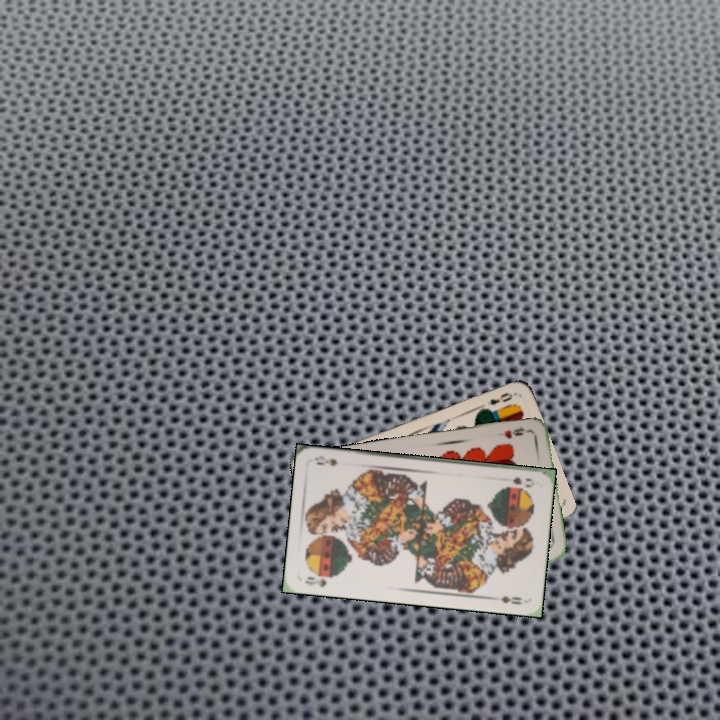EO: (483, 389, 515, 408)
H9: (494, 422, 532, 441)
SO: (301, 571, 336, 590), (509, 473, 537, 490)
